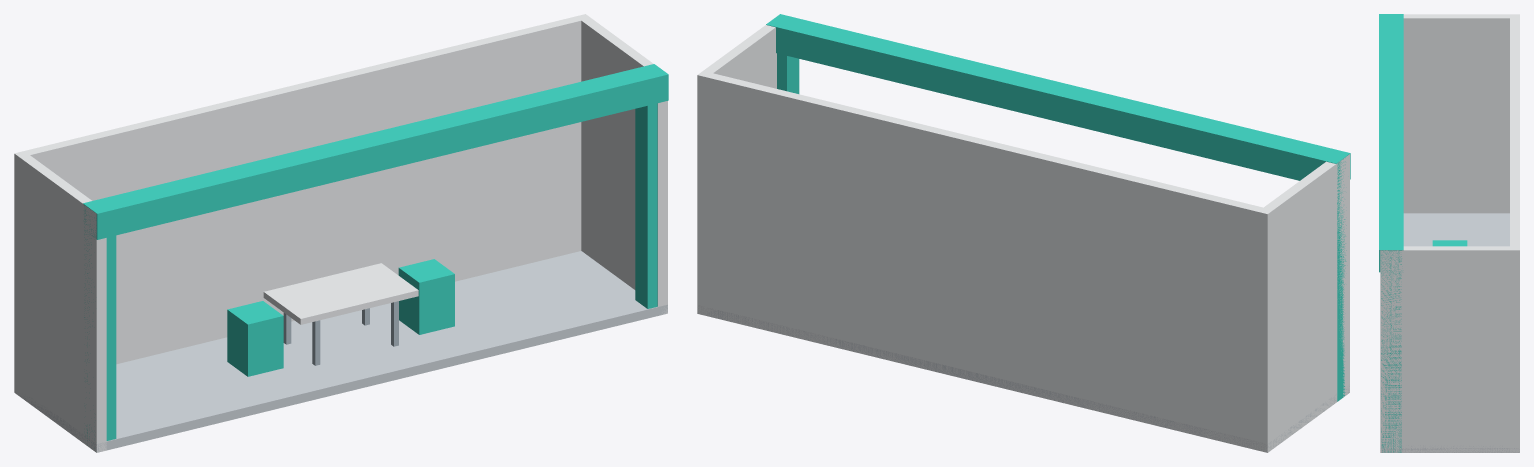
3 views of the same model, side by side, from view 1: azimuth 30°, elevation 25°; view 2: azimuth 150°, elevation 25°; view 3: azimuth 270°, elevation 25° (orthographic). The views are drawn at different scales.
Visible parts, largest first — view 1: Exhibition Booth Concept; view 2: Exhibition Booth Concept; view 3: Exhibition Booth Concept.
Part boxes in pixels (box(x1,y1,x2,y2)): Exhibition Booth Concept: box(14, 14, 668, 452); Exhibition Booth Concept: box(697, 14, 1350, 452); Exhibition Booth Concept: box(1379, 14, 1519, 452).
Bounding box in the file's own units: 8 × 3.2 × 2.01.
